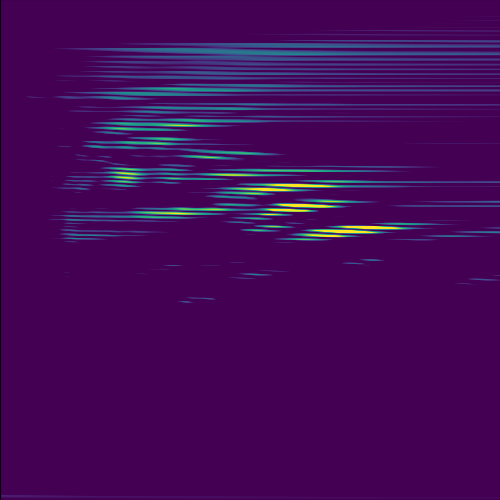semblance: (285, 219, 409, 247), (246, 199, 357, 225), (237, 178, 347, 201)
